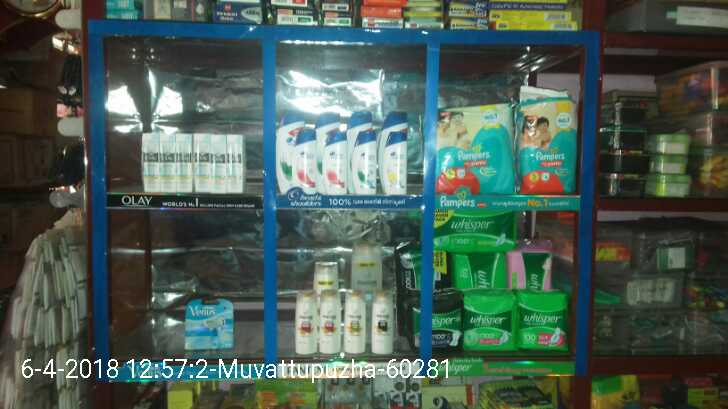venus: (185, 298, 235, 354)
